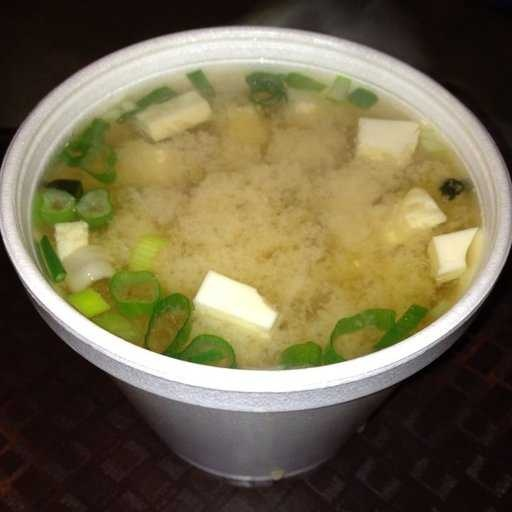soup: (20, 76, 485, 364)
